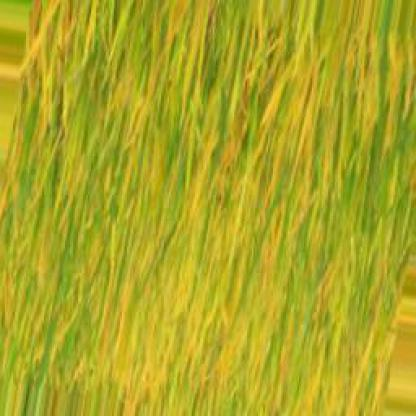Tungro: (4, 6, 414, 416)
